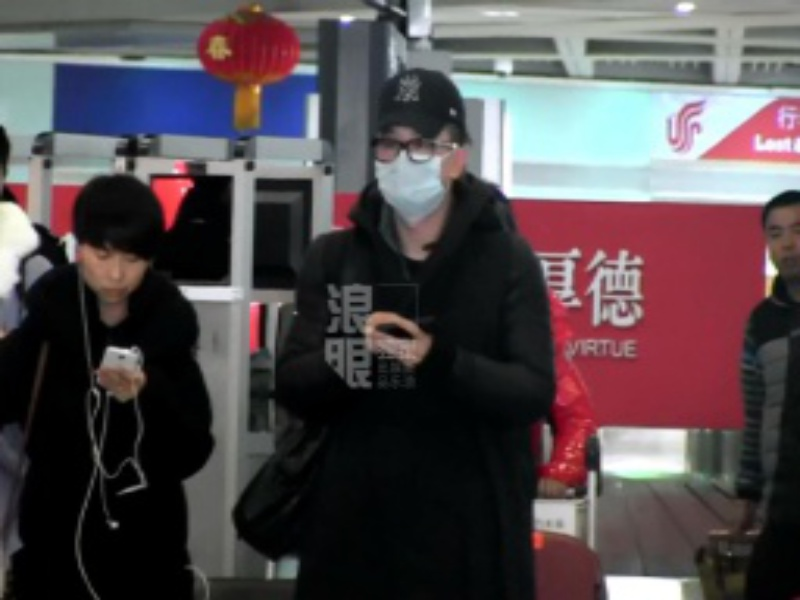ManaoArotava: (357, 80, 484, 235)
TsisyArotava: (66, 177, 170, 321), (752, 183, 800, 289)
